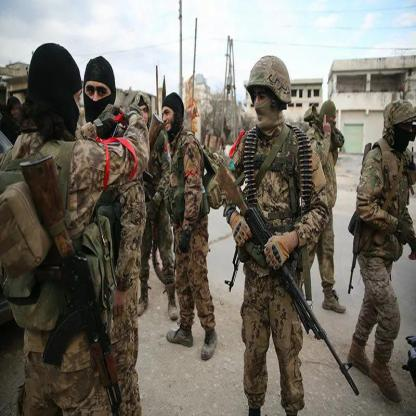rifle: (212, 158, 362, 397), (20, 151, 125, 415)
